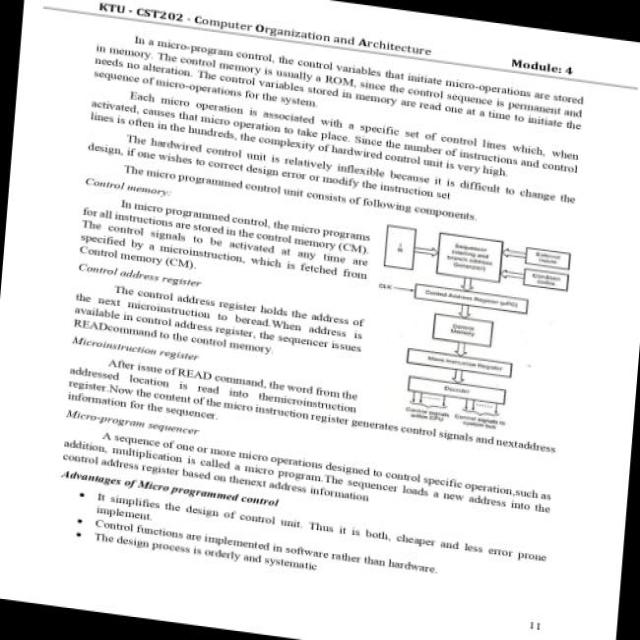Figure Detection - v3 Dataset Version2: (360, 214, 581, 440)
